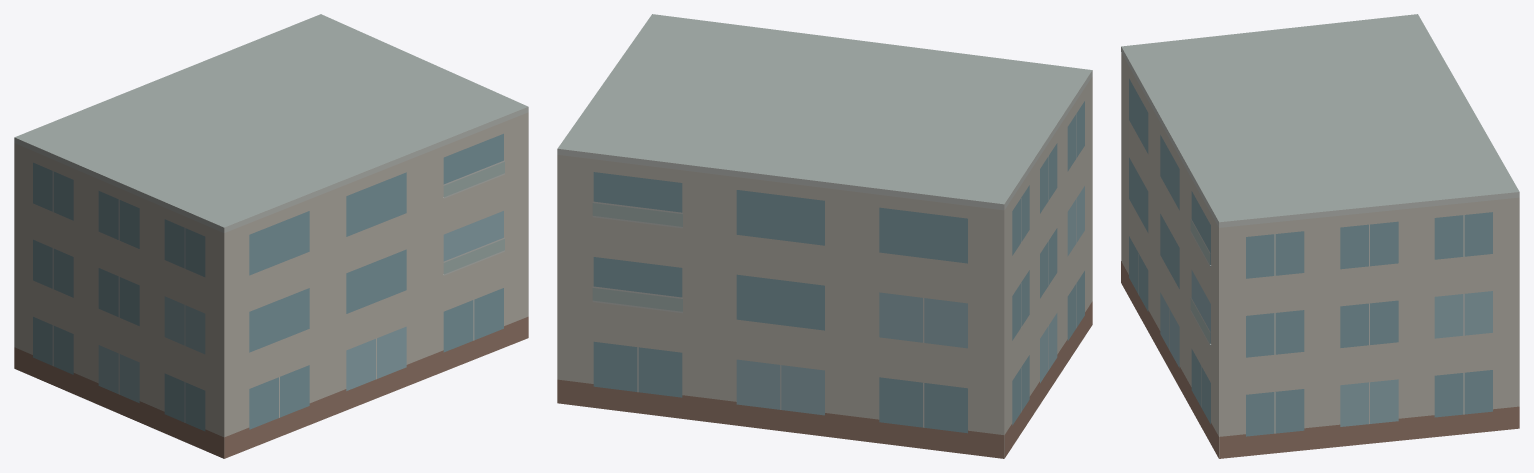
Rendered from survey-upis-32813367.glb.
3 views of the same model, side by side, from view 1: azimuth 30°, elevation 25°; view 2: azimuth 150°, elevation 25°; view 3: azimuth 270°, elevation 25° (orthographic). The views are drawn at different scales.
Parts seen in each view (by area): view 1: survey-upis-32813367.tmp; view 2: survey-upis-32813367.tmp; view 3: survey-upis-32813367.tmp.
Part boxes in pixels (x1,y1,x2,y2): survey-upis-32813367.tmp: (14, 14, 528, 458); survey-upis-32813367.tmp: (557, 14, 1092, 458); survey-upis-32813367.tmp: (1121, 14, 1519, 458).
Size of the model in its own units: 19.26 by 10.2 by 15.58.
